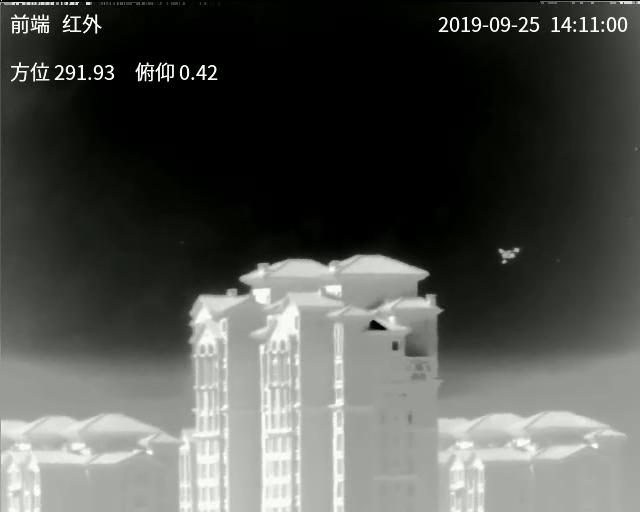uav: (496, 244, 521, 266)
